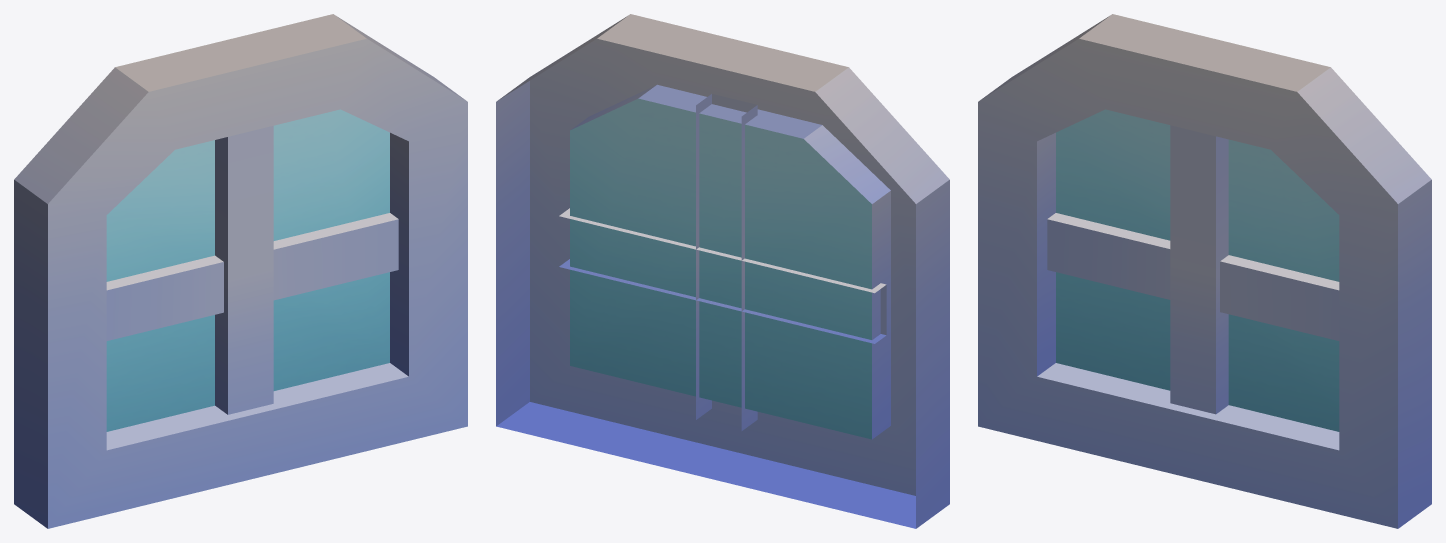
The model's file is Window_05B.fbx.
The picture shows the model from 3 angles, left to right: view 1: azimuth 30°, elevation 25°; view 2: azimuth 150°, elevation 25°; view 3: azimuth 330°, elevation 25°; orthographic projection.
Parts seen in each view (by area): view 1: Window_05B; view 2: Window_05B; view 3: Window_05B.
Boxes of the visible parts, x1,y1,x2,y2 form: Window_05B: [14, 14, 467, 528]; Window_05B: [496, 14, 949, 528]; Window_05B: [978, 14, 1431, 528].
Bounding box in the file's own units: 148 × 139 × 20.54.
2 materials, 2 textured.
